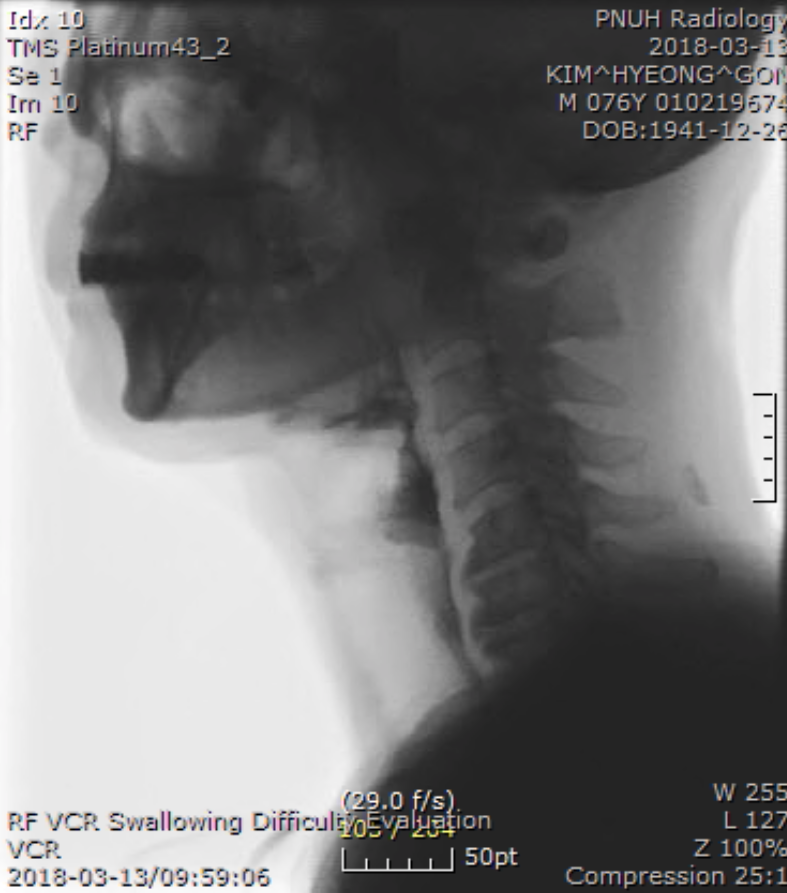dros: (392, 479, 454, 538)
food: (362, 410, 448, 539)
uros: (296, 392, 400, 447)
